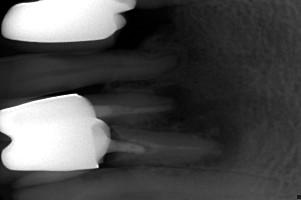Furcation Involvement: (154, 83, 242, 167)
